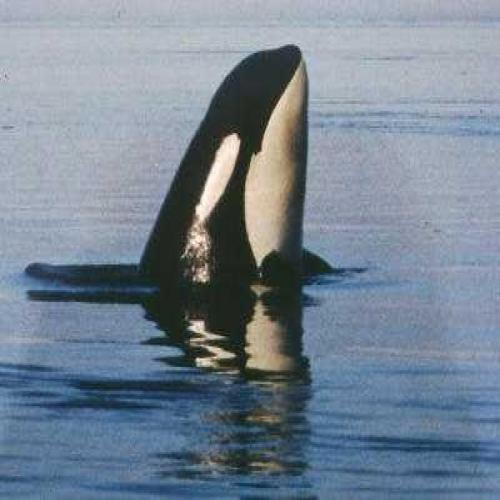killer_whale-endangered: (83, 7, 354, 364)
